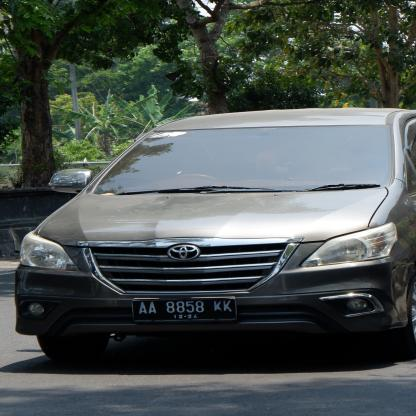Plat-Nomor: (116, 294, 243, 326)
